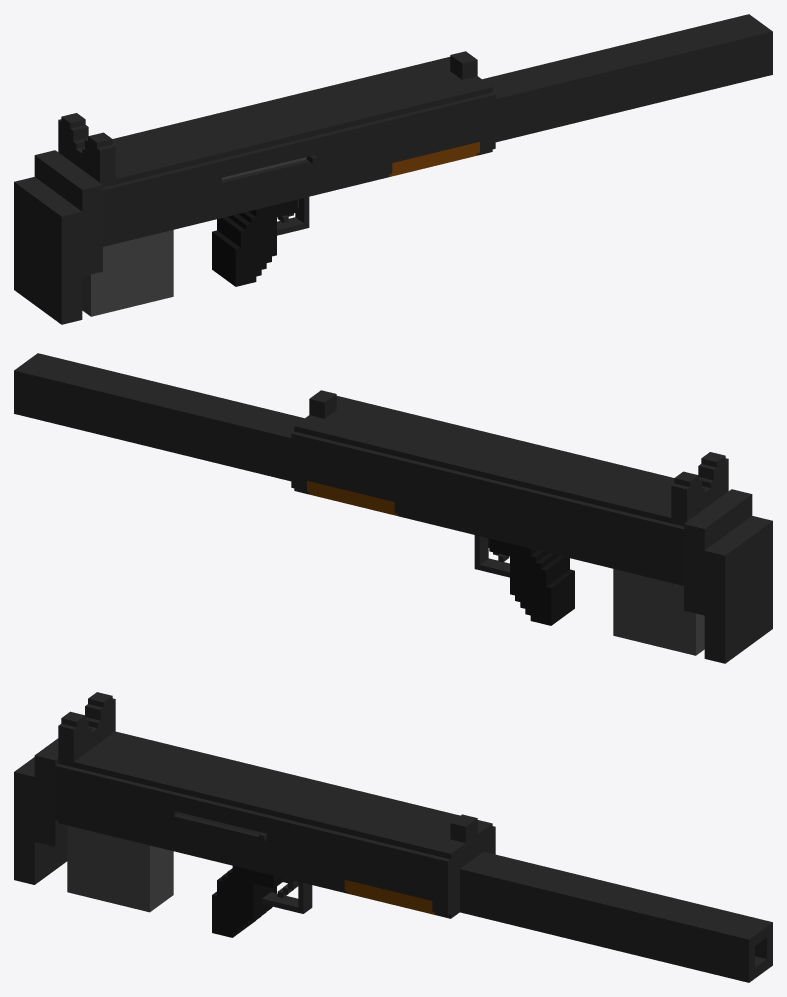
Rendered from WPP.obj.
3 renders of one model, top to bottom at view 1: azimuth 30°, elevation 25°; view 2: azimuth 150°, elevation 25°; view 3: azimuth 330°, elevation 25°, orthographic.
Size of the model in its own units: 14 by 3.4 by 1.7.
1 material, 1 textured.
